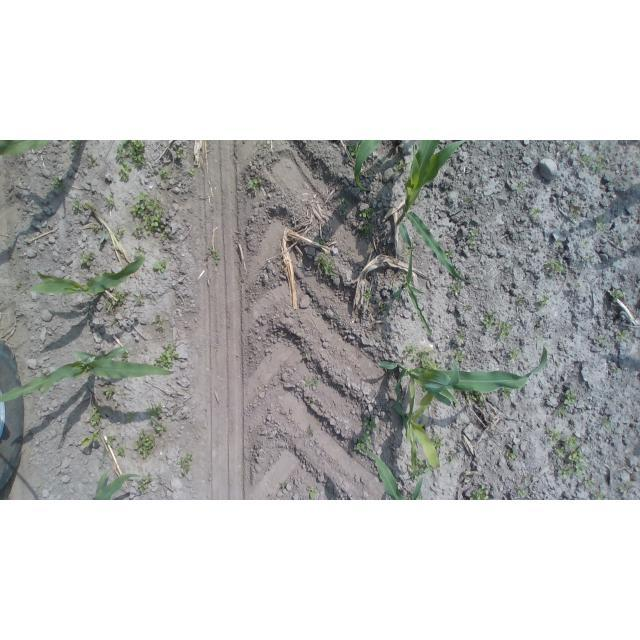Maize: (378, 333, 549, 427), (396, 140, 472, 284), (1, 345, 176, 401), (15, 255, 145, 297), (393, 243, 433, 337), (403, 377, 442, 470), (362, 448, 423, 501), (354, 141, 398, 192), (0, 140, 100, 156), (93, 469, 142, 500)
Weeds: (129, 192, 165, 238), (115, 141, 147, 168), (354, 417, 377, 453), (154, 342, 179, 369), (413, 349, 443, 371), (134, 428, 155, 458), (408, 458, 432, 482), (315, 253, 336, 275), (558, 464, 586, 478), (177, 453, 193, 475), (117, 160, 131, 182), (81, 430, 99, 447), (546, 260, 564, 277), (469, 484, 488, 500), (481, 311, 497, 329), (148, 404, 163, 423), (569, 447, 586, 463), (90, 404, 102, 426), (338, 196, 351, 216), (247, 176, 263, 192), (138, 475, 153, 492), (392, 160, 408, 175), (592, 156, 606, 173), (499, 322, 512, 340), (80, 251, 95, 266), (430, 434, 444, 450), (610, 289, 624, 304), (152, 259, 166, 273), (404, 346, 419, 359), (469, 228, 478, 249), (307, 486, 320, 500), (564, 390, 577, 404), (547, 428, 561, 441), (113, 226, 125, 241), (112, 291, 124, 306), (508, 346, 520, 360), (476, 389, 487, 404), (155, 315, 166, 330), (359, 208, 374, 219), (596, 214, 605, 232), (70, 140, 83, 152), (154, 422, 167, 434), (564, 435, 577, 447), (103, 387, 117, 398), (72, 199, 84, 211), (133, 246, 145, 258), (454, 348, 466, 360), (464, 390, 476, 402), (306, 376, 319, 387), (348, 145, 360, 156), (160, 168, 172, 179), (555, 445, 566, 457), (501, 386, 512, 398), (133, 293, 146, 303), (539, 297, 549, 310), (360, 223, 373, 233), (530, 209, 541, 220), (617, 330, 628, 341), (555, 405, 567, 415), (104, 297, 112, 311), (177, 149, 188, 159), (104, 195, 114, 206), (51, 177, 61, 188), (580, 155, 591, 165), (403, 248, 413, 259), (449, 284, 461, 293), (517, 181, 526, 193), (411, 490, 421, 500), (363, 289, 373, 299), (106, 436, 115, 447), (571, 210, 580, 221), (213, 252, 221, 264), (457, 333, 466, 343), (518, 488, 527, 498), (507, 450, 516, 460), (120, 351, 128, 362), (447, 452, 455, 463), (619, 486, 628, 495), (445, 248, 453, 258), (568, 142, 576, 152), (379, 304, 389, 312), (118, 445, 125, 456), (598, 335, 606, 344), (596, 492, 605, 500), (603, 419, 611, 428), (161, 231, 168, 241), (580, 240, 588, 248), (585, 479, 595, 485), (127, 413, 135, 420), (89, 154, 96, 162), (518, 296, 524, 305), (316, 239, 325, 245), (189, 169, 196, 176), (93, 225, 100, 232), (524, 477, 531, 484), (464, 197, 471, 204), (613, 367, 621, 373), (455, 390, 461, 397), (557, 239, 563, 246), (208, 246, 215, 252), (14, 281, 20, 287), (587, 256, 594, 261), (111, 318, 116, 324), (407, 493, 412, 499), (100, 271, 106, 276), (467, 305, 472, 311), (308, 430, 313, 436), (347, 250, 353, 255), (576, 283, 580, 290), (282, 484, 287, 489), (582, 408, 587, 413), (304, 354, 309, 359), (617, 242, 621, 247), (403, 178, 407, 182), (432, 396, 436, 400), (308, 399, 312, 403), (537, 322, 540, 326), (85, 421, 89, 424)
